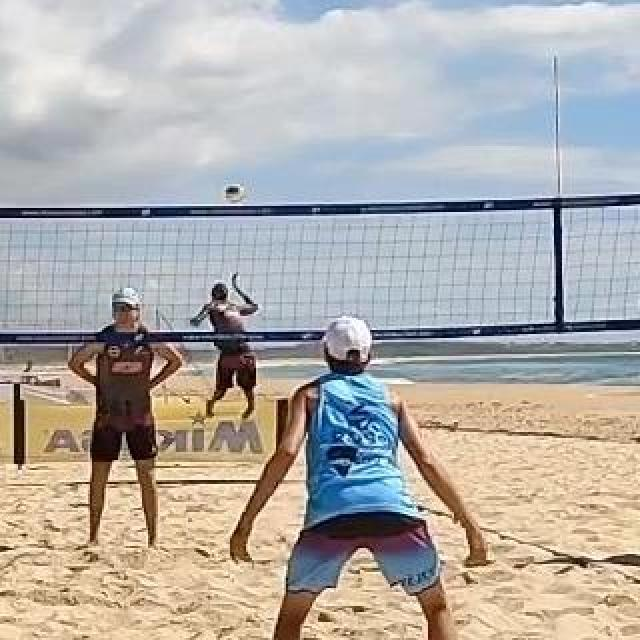volleyball: (223, 182, 245, 204)
